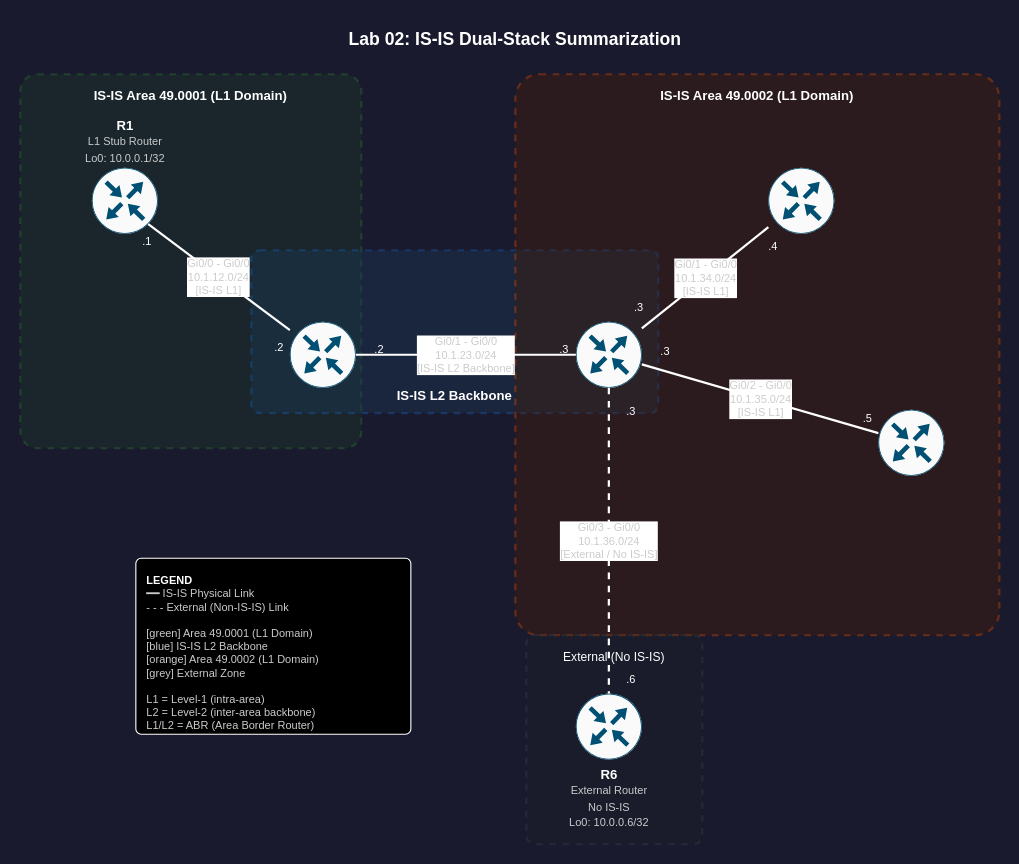
Some shapes in this 1019 by 864 pixel diagram are drawn without their labels. The shapes that lost their labels are listed below. From the top down, each one's centre as x and y in pixels, then its label:
At point 800,200: "R4 L1 Stub Router Lo0: 10.0.0.4/32".
At point 322,354: "R2 L1/L2 Border Router Area 49.0001 side Lo0: 10.0.0.2/32".
At point 608,354: "R3 L1/L2 Border Router Area 49.0002 side Lo0: 10.0.0.3/32".
At point 910,442: "R5 L1 Stub Router Lo0: 10.0.0.5/32".
